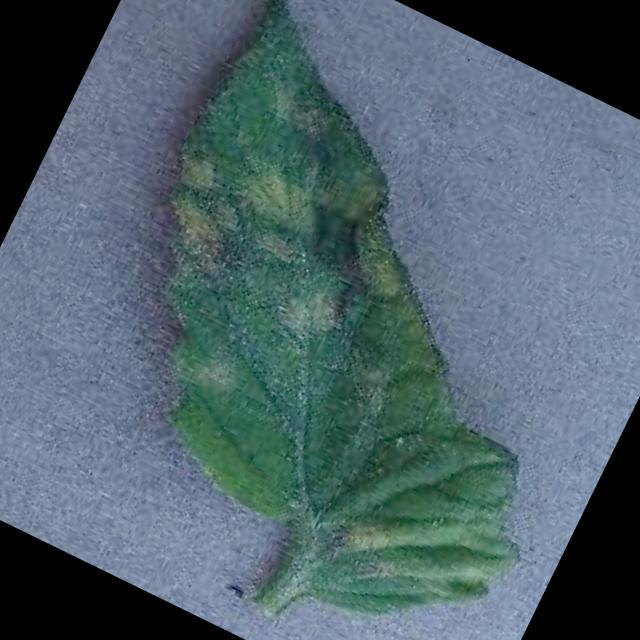Tomato mold leaf: (21, 0, 640, 640)
